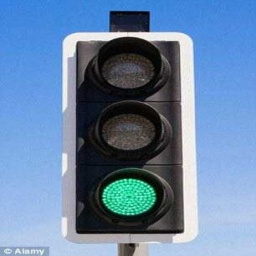traffic light: (62, 33, 198, 243)
